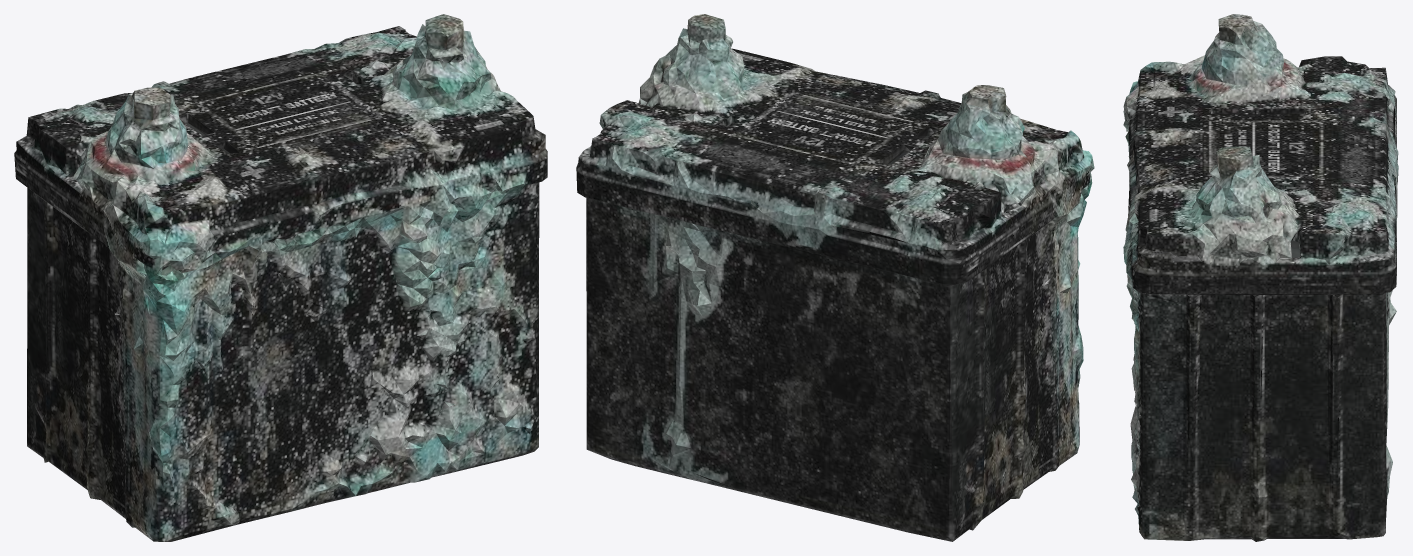
The model's file is battery_broken.glb.
3 views of the same model, side by side, from view 1: azimuth 30°, elevation 25°; view 2: azimuth 150°, elevation 25°; view 3: azimuth 270°, elevation 25° (orthographic). The views are drawn at different scales.
Visible parts, largest first — view 1: battery_broken; view 2: battery_broken; view 3: battery_broken.
Part boxes in pixels (<box>): battery_broken: <box>14,14,547,541</box>; battery_broken: <box>576,14,1094,541</box>; battery_broken: <box>1123,14,1398,541</box>.
Size of the model in its own units: 1.9 by 1.8 by 1.21.
1 material, 1 textured.
